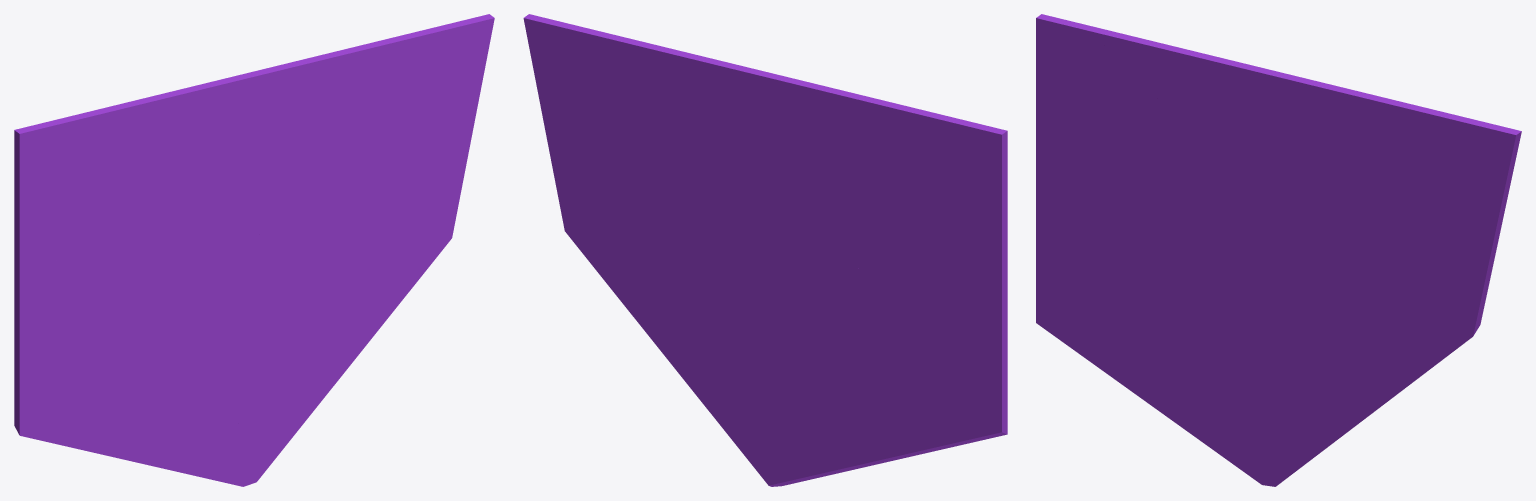
The model's file is Glass_80_4_chunks.fbx.
The picture shows the model from 3 angles, left to right: view 1: azimuth 30°, elevation 25°; view 2: azimuth 150°, elevation 25°; view 3: azimuth 330°, elevation 25°; orthographic projection.
Parts seen in each view (by area): view 1: Glass_80_4_17, Glass_80_4_25, Glass_80_4_6, Glass_80_4_22, Glass_80_4_4, Glass_80_4_20, Glass_80_4_26, Glass_80_4_8, Glass_80_4_10, Glass_80_4_3, Glass_80_4_16, Glass_80_4_14 (+19 smaller); view 2: Glass_80_4_17, Glass_80_4_25, Glass_80_4_1, Glass_80_4_10, Glass_80_4_26, Glass_80_4_4, Glass_80_4_18, Glass_80_4_6, Glass_80_4_22, Glass_80_4_16, Glass_80_4_2, Glass_80_4_14 (+18 smaller); view 3: Glass_80_4_17, Glass_80_4_25, Glass_80_4_6, Glass_80_4_22, Glass_80_4_4, Glass_80_4_26, Glass_80_4_20, Glass_80_4_8, Glass_80_4_3, Glass_80_4_16, Glass_80_4_14, Glass_80_4_10 (+19 smaller).
Boxes of the visible parts, left/top/right/bottom form: Glass_80_4_17: left=14, top=119, right=148, bottom=271; Glass_80_4_25: left=303, top=20, right=474, bottom=159; Glass_80_4_6: left=261, top=222, right=414, bottom=322; Glass_80_4_22: left=249, top=59, right=335, bottom=215; Glass_80_4_4: left=259, top=293, right=383, bottom=384; Glass_80_4_20: left=89, top=355, right=220, bottom=470; Glass_80_4_26: left=384, top=14, right=494, bottom=192; Glass_80_4_8: left=14, top=360, right=115, bottom=451; Glass_80_4_10: left=14, top=254, right=75, bottom=388; Glass_80_4_3: left=222, top=376, right=334, bottom=486; Glass_80_4_16: left=135, top=123, right=254, bottom=274; Glass_80_4_14: left=176, top=134, right=259, bottom=265; Glass_80_4_17: left=870, top=118, right=1007, bottom=281; Glass_80_4_25: left=548, top=19, right=711, bottom=163; Glass_80_4_1: left=822, top=277, right=947, bottom=450; Glass_80_4_10: left=925, top=252, right=1007, bottom=395; Glass_80_4_26: left=523, top=14, right=638, bottom=194; Glass_80_4_4: left=638, top=300, right=761, bottom=391; Glass_80_4_18: left=798, top=361, right=925, bottom=469; Glass_80_4_6: left=610, top=231, right=745, bottom=321; Glass_80_4_22: left=692, top=58, right=773, bottom=187; Glass_80_4_16: left=762, top=126, right=886, bottom=281; Glass_80_4_2: left=723, top=378, right=831, bottom=486; Glass_80_4_14: left=757, top=136, right=842, bottom=269; Glass_80_4_17: left=1036, top=14, right=1166, bottom=214; Glass_80_4_25: left=1333, top=85, right=1496, bottom=231; Glass_80_4_6: left=1280, top=269, right=1435, bottom=388; Glass_80_4_22: left=1270, top=72, right=1355, bottom=218; Glass_80_4_4: left=1278, top=299, right=1403, bottom=426; Glass_80_4_26: left=1405, top=125, right=1521, bottom=271; Glass_80_4_20: left=1107, top=328, right=1238, bottom=434; Glass_80_4_8: left=1036, top=273, right=1132, bottom=373; Glass_80_4_3: left=1240, top=388, right=1354, bottom=486; Glass_80_4_16: left=1152, top=122, right=1273, bottom=225; Glass_80_4_14: left=1194, top=133, right=1278, bottom=245; Glass_80_4_10: left=1036, top=139, right=1092, bottom=274.
Size of the model in its own units: 1362 by 1119 by 27.2.
